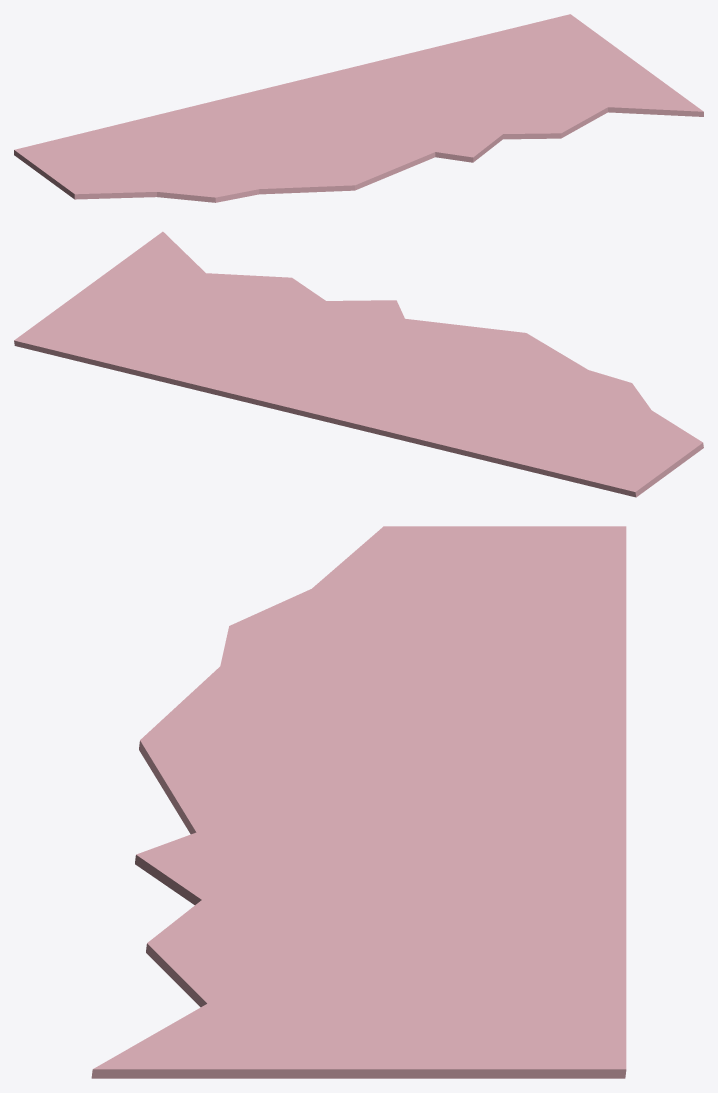
File: Torn_Paper.fbx
The picture shows the model from 3 angles, top to bottom: view 1: azimuth 30°, elevation 25°; view 2: azimuth 150°, elevation 25°; view 3: azimuth 270°, elevation 25°; orthographic projection. The views are drawn at different scales.
Visible parts, largest first — view 1: Torn Paper; view 2: Torn Paper; view 3: Torn Paper.
Part boxes in pixels (box(x1,y1,x2,y2)): Torn Paper: box(14, 14, 703, 202); Torn Paper: box(14, 231, 703, 497); Torn Paper: box(91, 526, 626, 1078).
Size of the model in its own units: 41.63 by 0.355 by 17.32.
